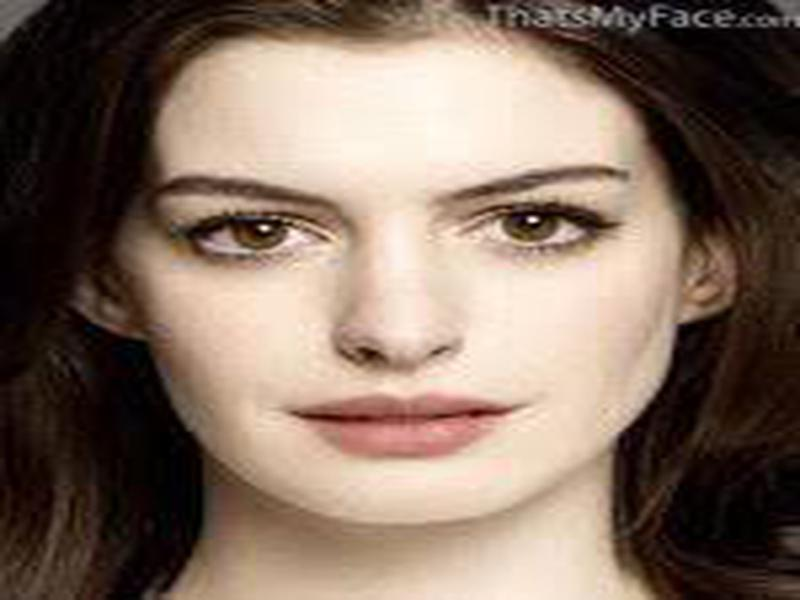without_mask: (134, 95, 661, 531)
